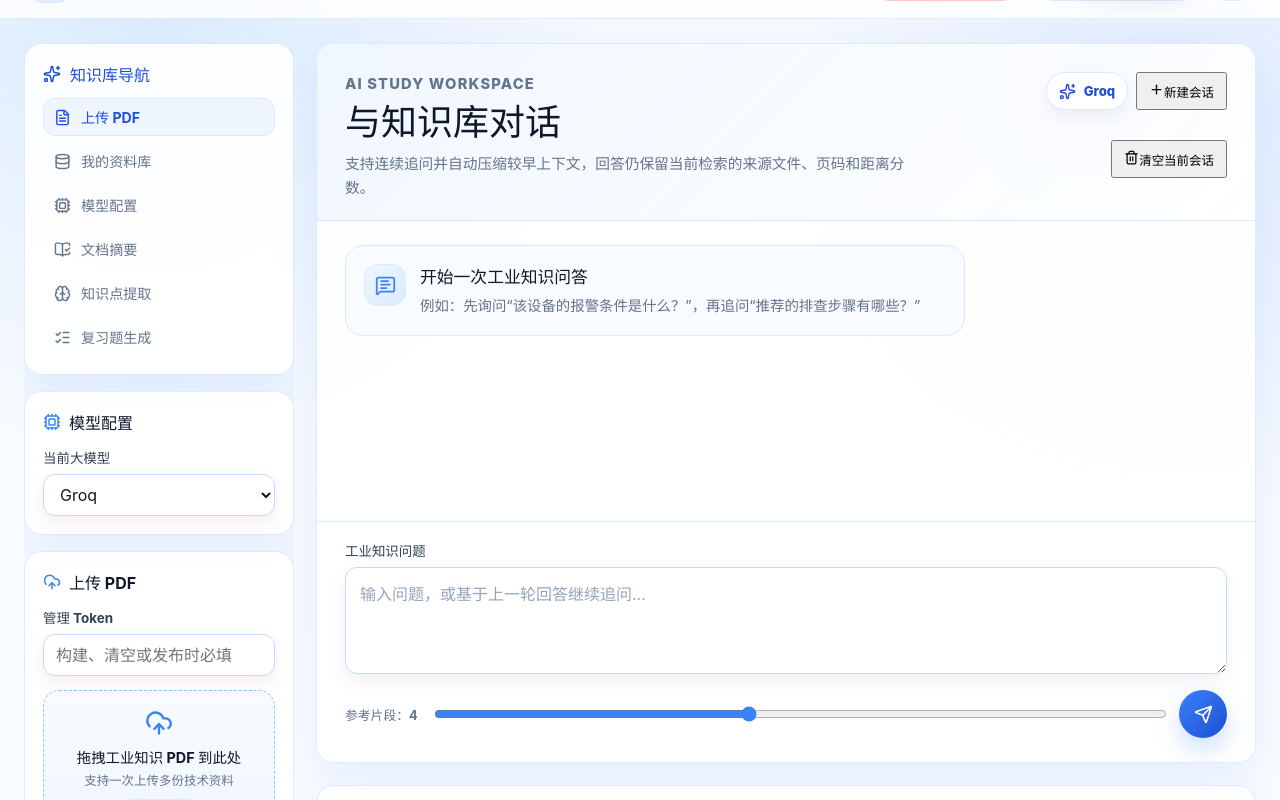
Industrial Knowledge RAG React application › clears stale answers after a draft is published
The width and height of the screenshot is (1280, 800).
Type "admin-secret" into the password field labelled "管理 Token" at {"x": 159, "y": 655}, box [43, 634, 275, 676]
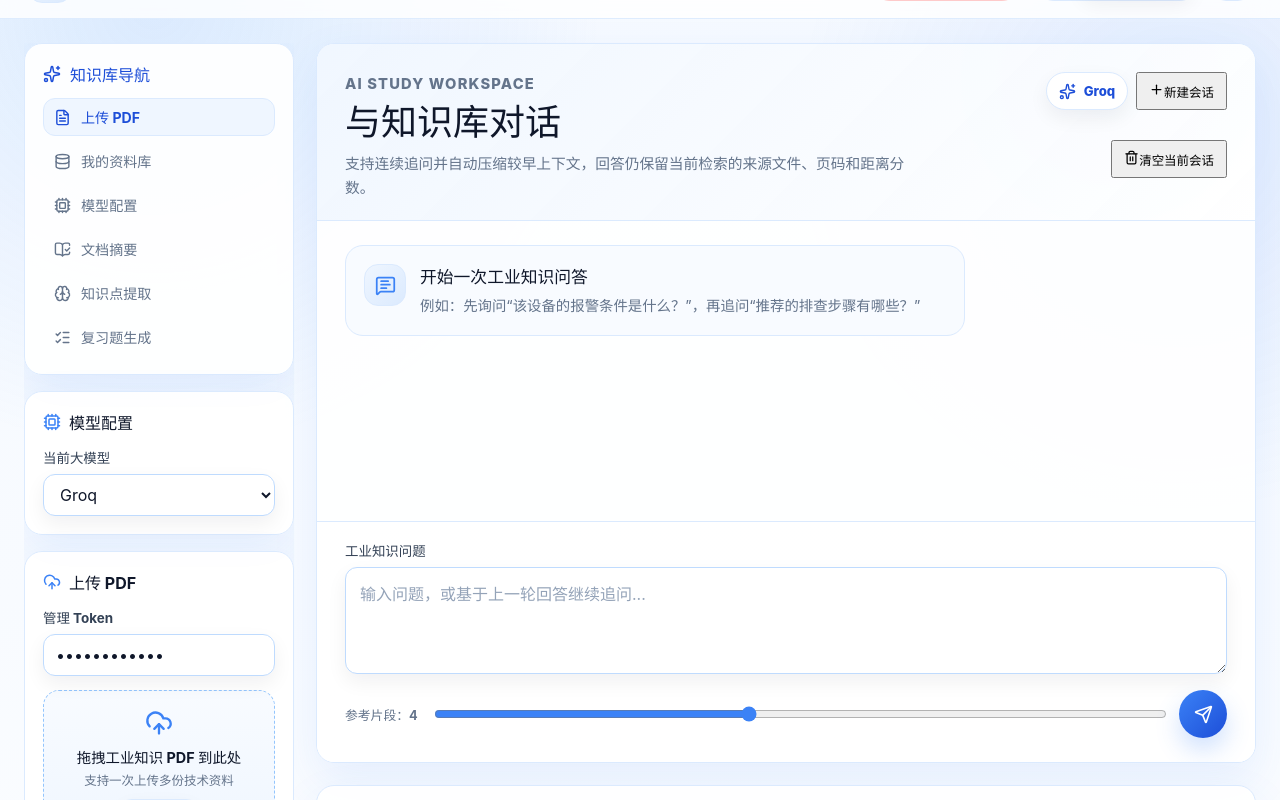
Type "什么是 PLC 扫描周期？" into the text box labelled "工业知识问题" at {"x": 786, "y": 621}, box [345, 567, 1227, 674]
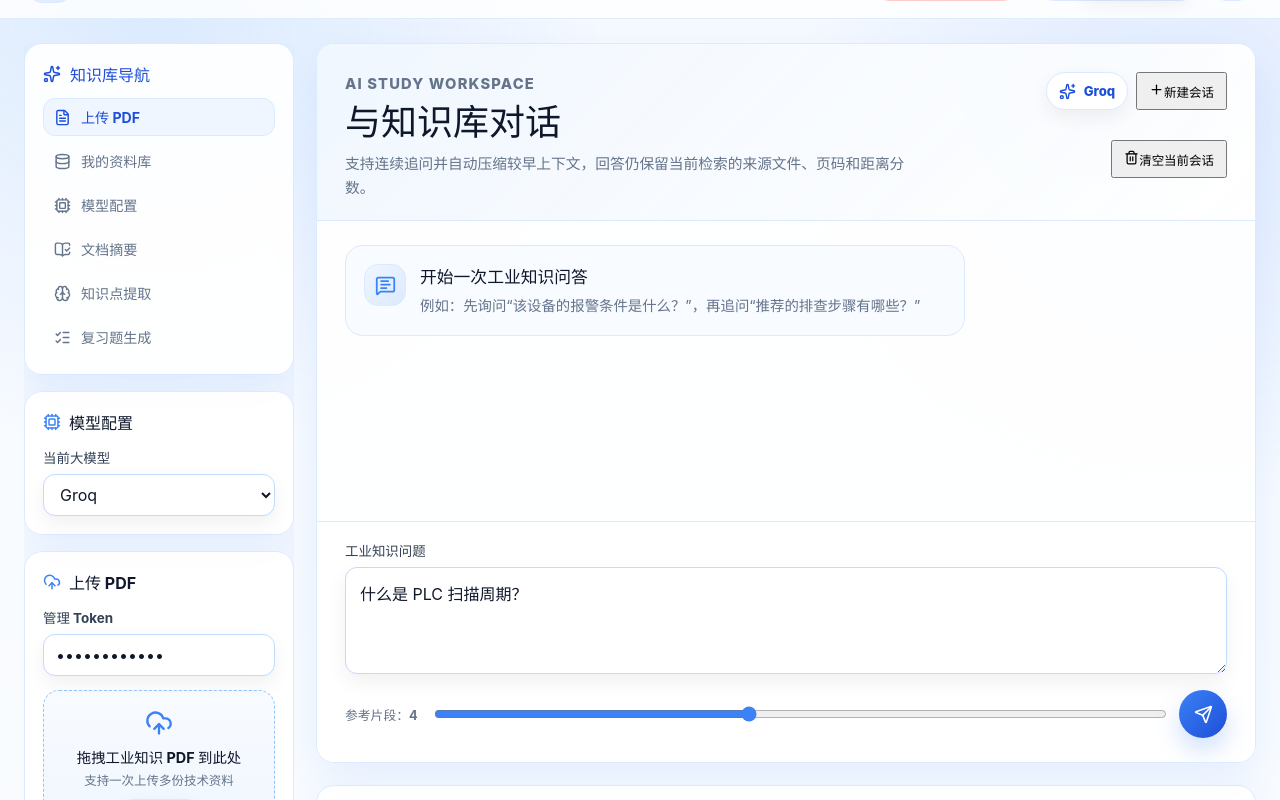
Click the button named "提交问题" at {"x": 1203, "y": 714}, box [1179, 690, 1227, 738]
(page scrolled)
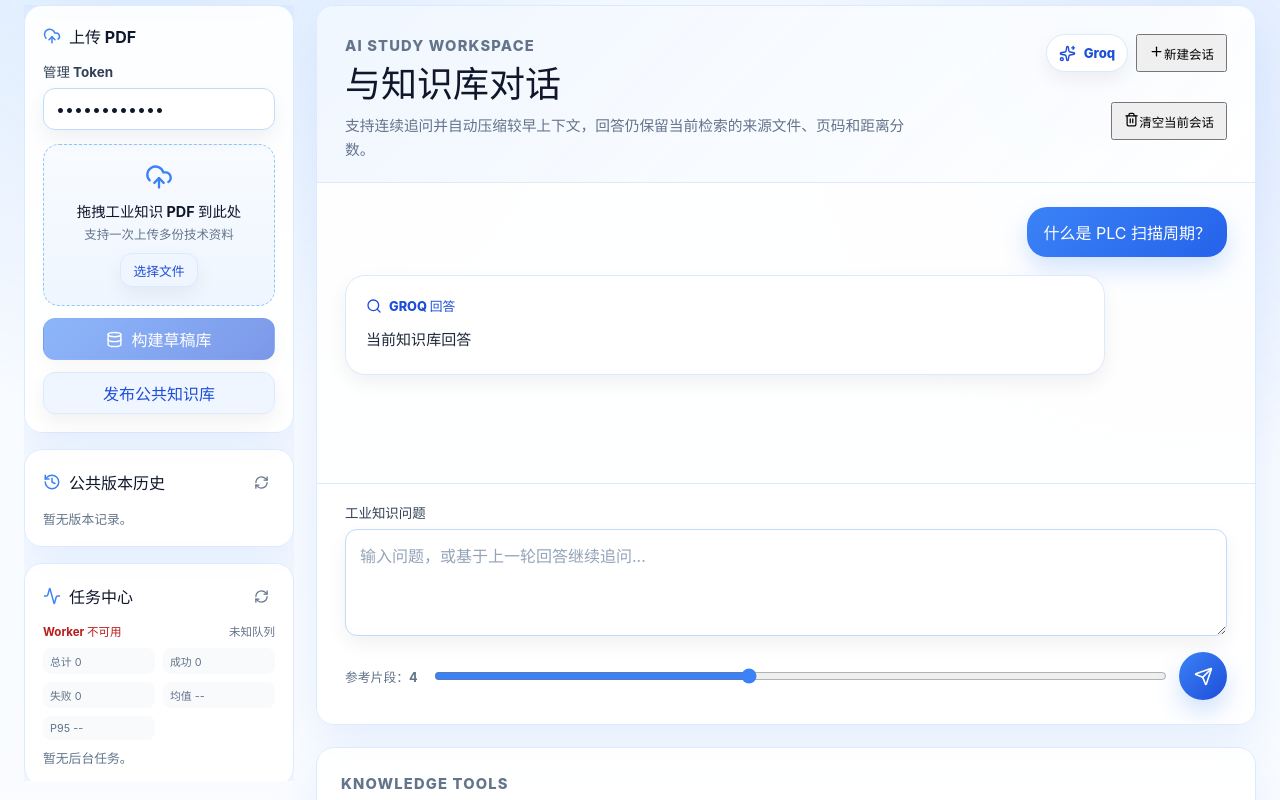
Check: the text "当前知识库回答" is shown, box [366, 330, 471, 349]
Click the button "发布公共知识库" at {"x": 159, "y": 393}, box [43, 372, 275, 414]
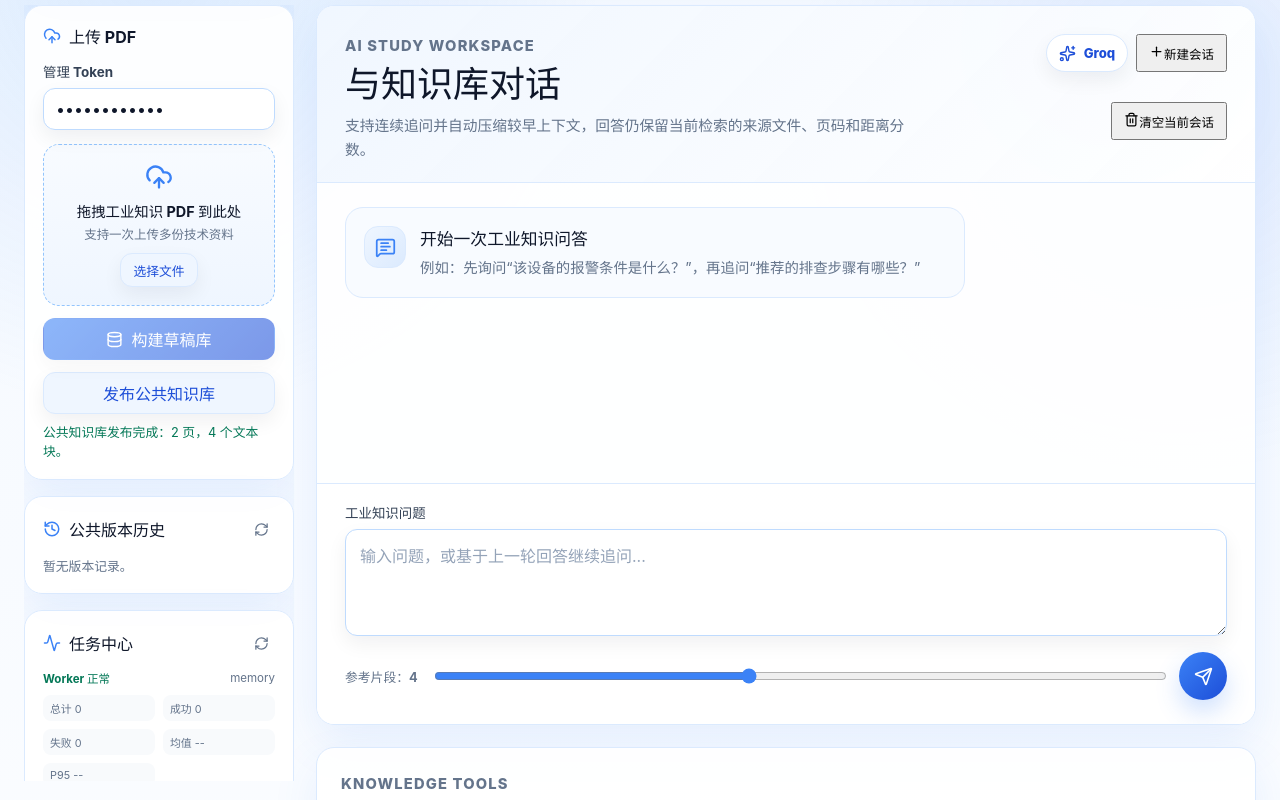
Check: the text "当前知识库回答" is gone
